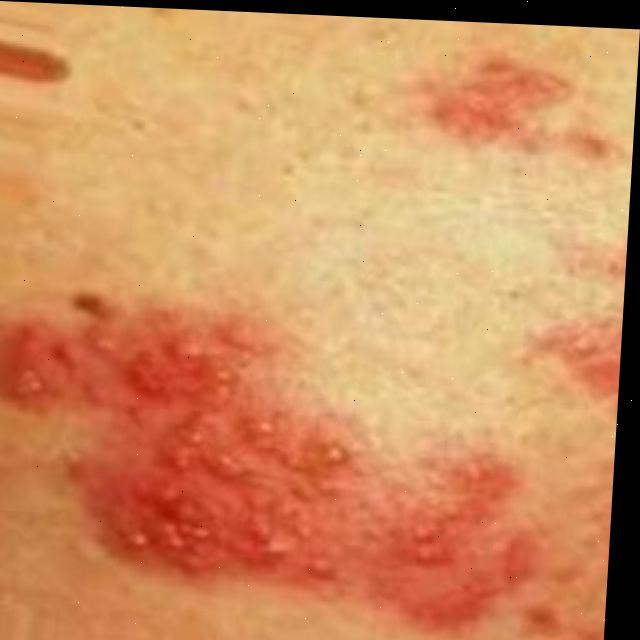Shingles: (0, 317, 510, 638), (448, 55, 554, 140), (554, 330, 622, 398)
